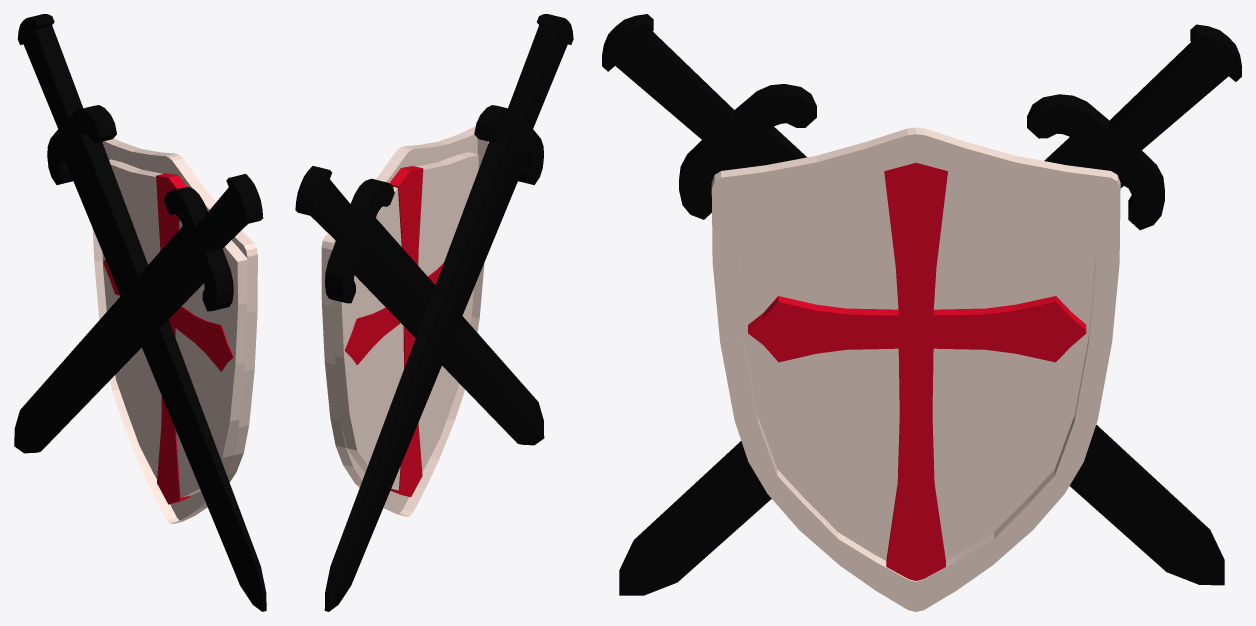
The model's file is escudo-espada.fbx.
3 views of the same model, side by side, from view 1: azimuth 30°, elevation 25°; view 2: azimuth 150°, elevation 25°; view 3: azimuth 270°, elevation 25° (orthographic). The views are drawn at different scales.
Visible parts, largest first — view 1: Cube, Plane.002, Plane.001, Plane; view 2: Plane.001, Cube, Plane.002, Plane; view 3: Cube, Plane, Plane.001, Plane.002.
Boxes of the visible parts, x1=… form: Cube: x1=92, y1=138, x2=257, y2=523; Plane.002: x1=17, y1=14, x2=266, y2=611; Plane.001: x1=14, y1=174, x2=263, y2=453; Plane: x1=103, y1=173, x2=233, y2=504; Plane.001: x1=324, y1=14, x2=573, y2=611; Cube: x1=321, y1=126, x2=488, y2=516; Plane.002: x1=295, y1=166, x2=544, y2=445; Plane: x1=345, y1=166, x2=443, y2=497; Cube: x1=711, y1=127, x2=1120, y2=611; Plane: x1=748, y1=162, x2=1086, y2=580; Plane.001: x1=602, y1=14, x2=1224, y2=585; Plane.002: x1=619, y1=24, x2=1241, y2=595.
Size of the model in its own units: 69.64 by 534 by 548.
